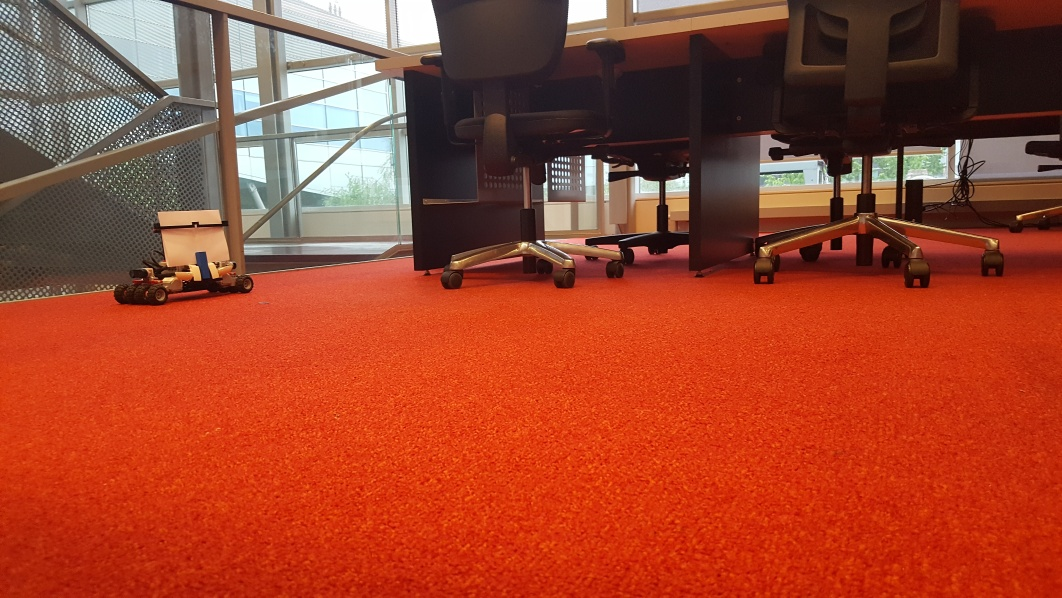car: (112, 206, 254, 305)
